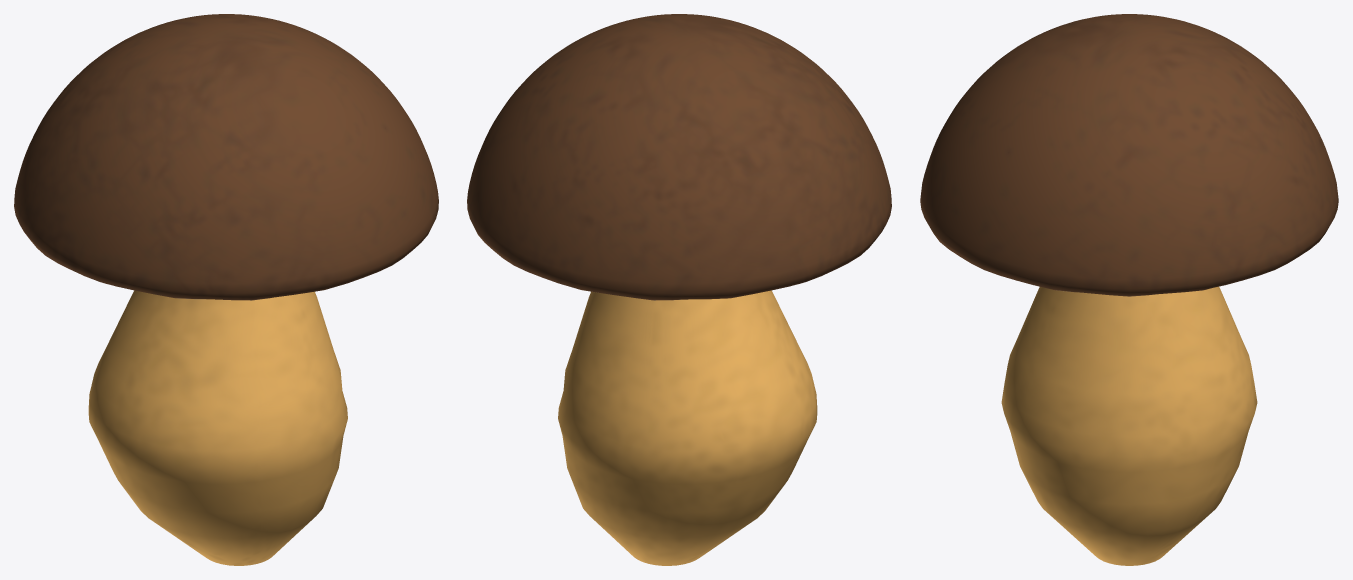
File: Karljohan1.fbx
3 views of the same model, side by side, from view 1: azimuth 30°, elevation 25°; view 2: azimuth 150°, elevation 25°; view 3: azimuth 270°, elevation 25° (orthographic).
Visible parts, largest first — view 1: Sphere, Cylinder; view 2: Sphere, Cylinder; view 3: Sphere, Cylinder.
Boxes of the visible parts, x1=… form: Sphere: x1=14, y1=14, x2=438, y2=300; Cylinder: x1=88, y1=290, x2=347, y2=565; Sphere: x1=467, y1=14, x2=891, y2=300; Cylinder: x1=558, y1=290, x2=817, y2=565; Sphere: x1=920, y1=14, x2=1338, y2=296; Cylinder: x1=1001, y1=286, x2=1257, y2=565.
Bounding box in the file's own units: 3.67 × 3.67 × 4.95.
Materials: 3 (3 with a texture image).
